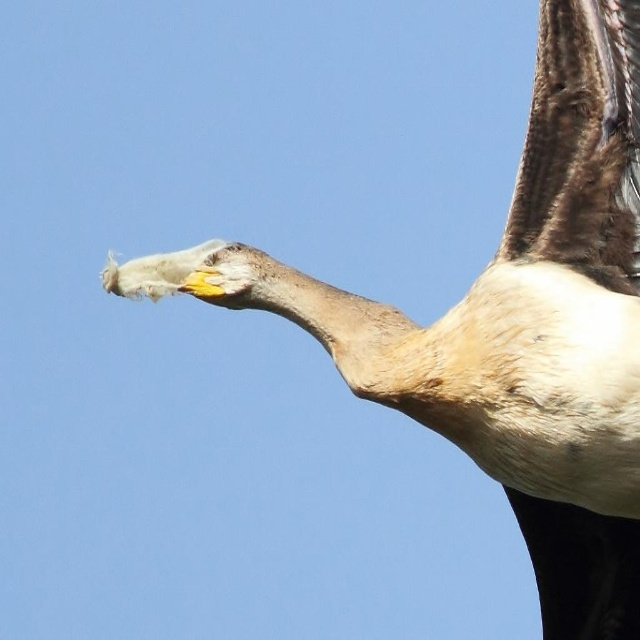Goose: (98, 0, 639, 639)
